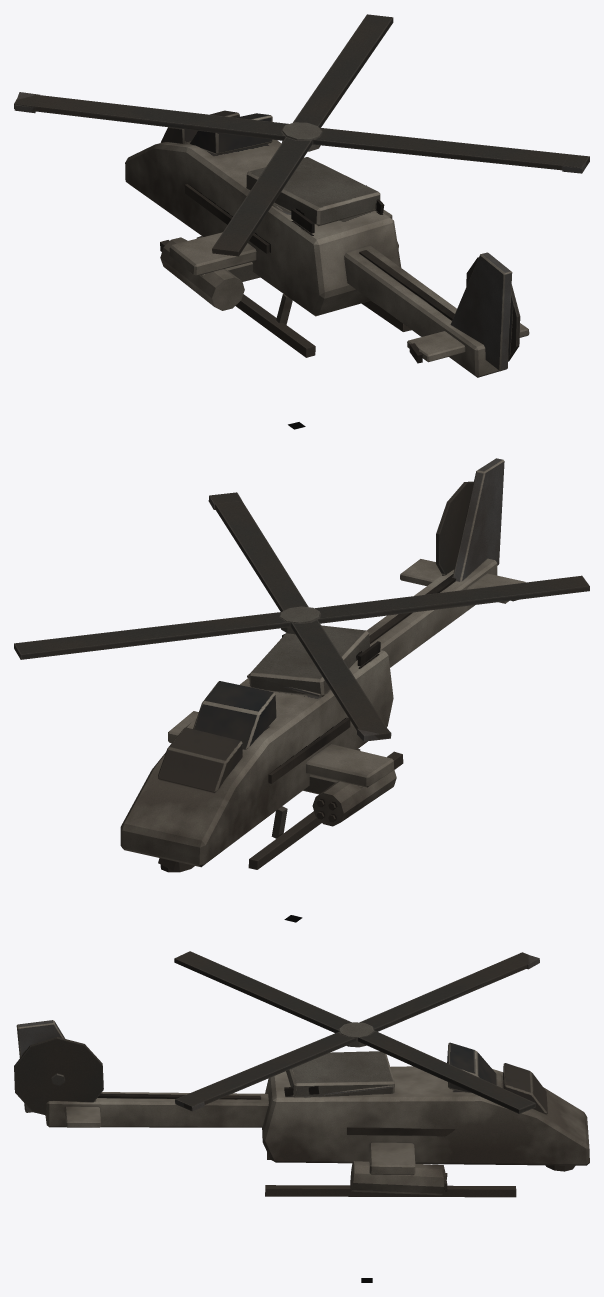
Rendered from ord_guardian_wreck.fbx.
3 views of the same model, one above another, from view 1: azimuth 30°, elevation 25°; view 2: azimuth 150°, elevation 25°; view 3: azimuth 270°, elevation 25° (orthographic). The views are drawn at different scales.
Parts seen in each view (by area): view 1: base_bar, rotor_bar, pylon_bar, tailRotor_bar; view 2: base_bar, rotor_bar, pylon_bar, tailRotor_bar; view 3: base_bar, rotor_bar, tailRotor_bar, pylon_bar.
Part boxes in pixels (box(x1,y1,x2,y2)): base_bar: box(125, 110, 529, 377); rotor_bar: box(14, 14, 589, 256); pylon_bar: box(160, 237, 398, 310); tailRotor_bar: box(466, 257, 520, 361); base_bar: box(120, 458, 525, 872); rotor_bar: box(14, 492, 589, 741); pylon_bar: box(303, 769, 396, 826); tailRotor_bar: box(436, 481, 473, 575); base_bar: box(16, 1020, 589, 1197); rotor_bar: box(174, 951, 539, 1113); tailRotor_bar: box(14, 1037, 103, 1115); pylon_bar: box(350, 1161, 447, 1195).
Bounding box in the file's own units: 644 × 503 × 1012.
Materials: 2 (2 with a texture image).
